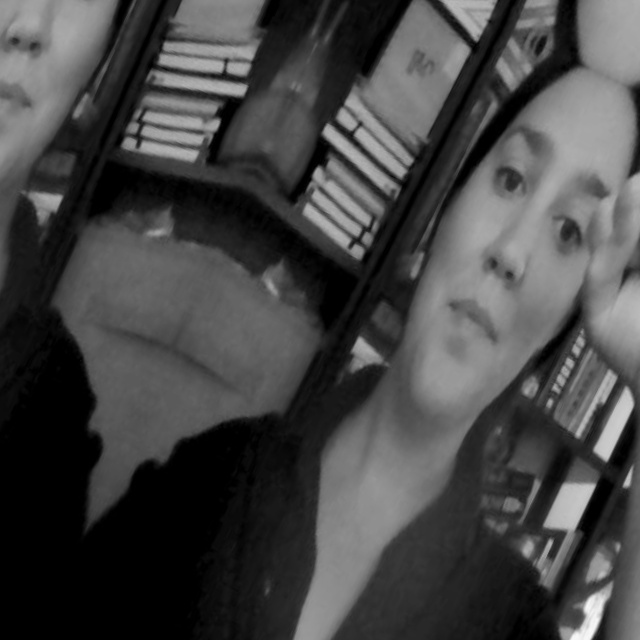Rock: (626, 0, 640, 179)
